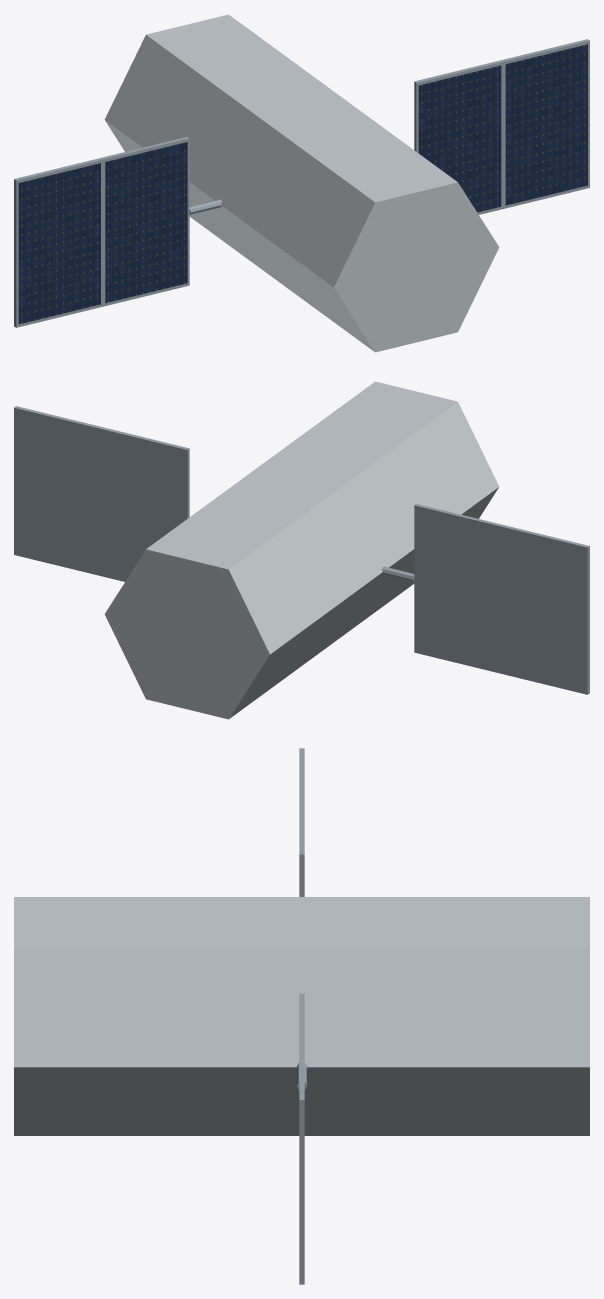
The model's file is ref-ranger-block-i-173.glb.
3 views of the same model, one above another, from view 1: azimuth 30°, elevation 25°; view 2: azimuth 150°, elevation 25°; view 3: azimuth 270°, elevation 25° (orthographic). The views are drawn at different scales.
Parts seen in each view (by area): view 1: Spacecraft body, Photovoltaic laminates (×4), Array frame (×4); view 2: Spacecraft body, Array frame (×4); view 3: Spacecraft body, Array frame.
Part boxes in pixels (<box>): Spacecraft body: <box>104,14,499,352</box>; Photovoltaic laminates (×4): <box>18,44,587,324</box>; Array frame (×4): <box>14,39,589,327</box>; Spacecraft body: <box>104,381,499,719</box>; Array frame (×4): <box>14,406,589,694</box>; Spacecraft body: <box>14,897,589,1135</box>; Array frame: <box>299,1046,304,1284</box>.
Bounding box in the file's own units: 5.2 × 1.3 × 3.6.
Materials: 3 (1 with a texture image).
